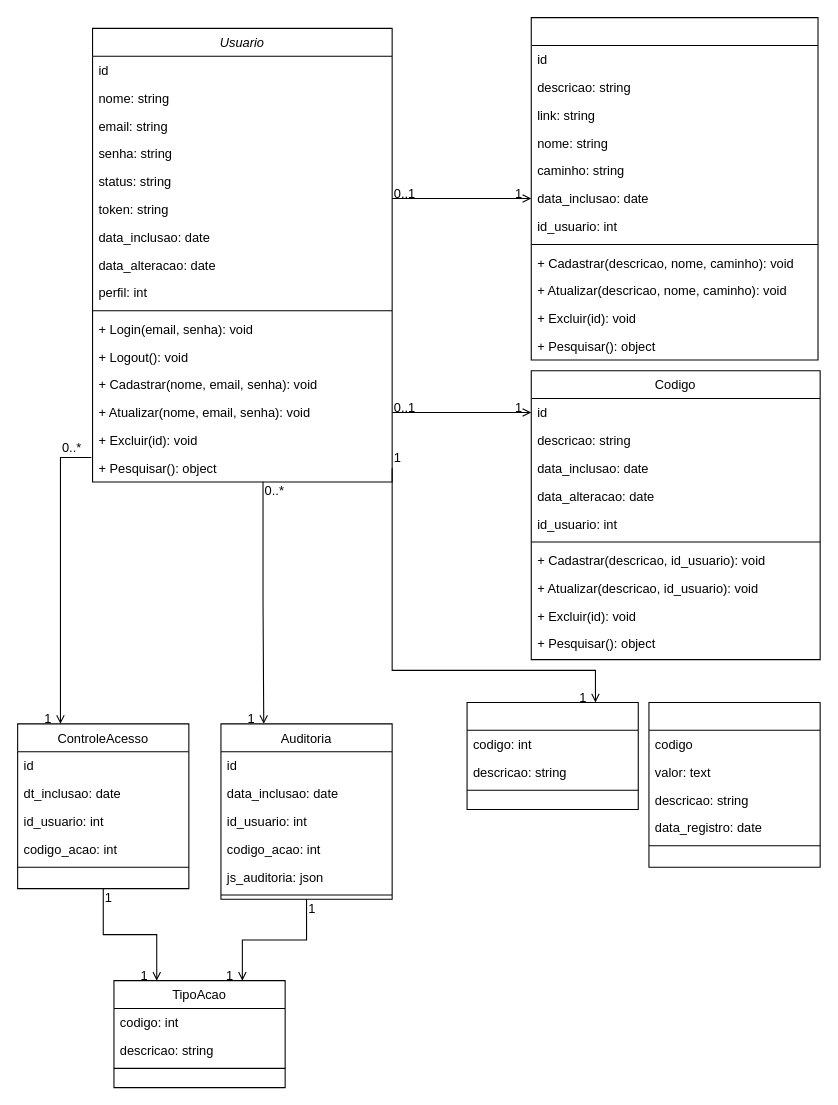
This 838x1105 diagram has some shape labels left out. The box of each missing label's shape, as (x1, y1, x2, y2) in pixels:
Anexo: (530, 17, 818, 360)
Parametro: (648, 701, 820, 867)
Perfil: (466, 701, 638, 809)
